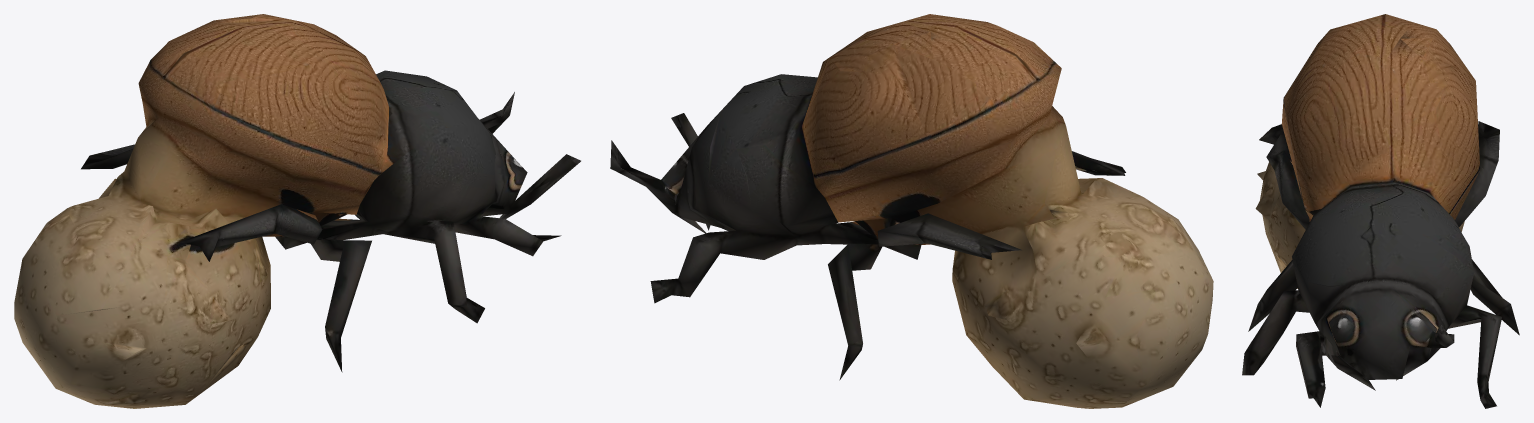
The model's file is toad-thing-dung-beetle.glb.
The picture shows the model from 3 angles, left to right: view 1: azimuth 30°, elevation 25°; view 2: azimuth 150°, elevation 25°; view 3: azimuth 270°, elevation 25°; orthographic projection. The views are drawn at different scales.
Visible parts, largest first — view 1: lo; view 2: lo; view 3: lo.
Boxes of the visible parts, <box> form: lo: <box>14,14,580,408</box>; lo: <box>610,14,1213,408</box>; lo: <box>1242,14,1519,408</box>.
Size of the model in its own units: 0.0744 by 0.0451 by 0.0351.
Materials: 1 (1 with a texture image).
